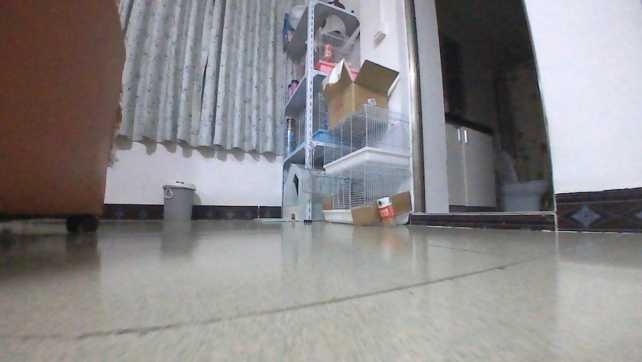door_sill: (414, 210, 553, 231)
sofa1: (0, 0, 127, 235)
toilet: (495, 150, 545, 211)
trash_can: (161, 180, 196, 220)
